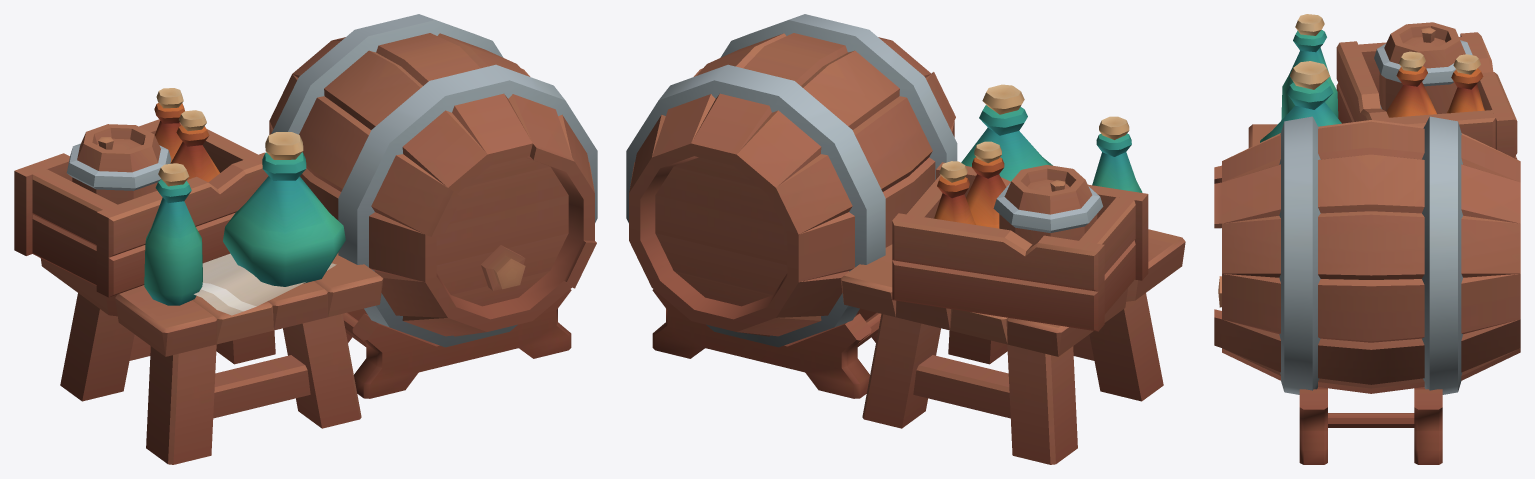
File: keg-decorated-gltf.glb
3 renders of one model, left to right at view 1: azimuth 30°, elevation 25°; view 2: azimuth 150°, elevation 25°; view 3: azimuth 270°, elevation 25°, orthographic. The views are drawn at different scales.
Parts seen in each view (by area): view 1: keg_decorated; view 2: keg_decorated; view 3: keg_decorated.
Part boxes in pixels (left/top/right/bottom): keg_decorated: left=14, top=14, right=597, bottom=464; keg_decorated: left=626, top=14, right=1185, bottom=464; keg_decorated: left=1214, top=14, right=1520, bottom=464.
Bounding box in the file's own units: 3.52 × 2.05 × 2.
1 material, 1 textured.
